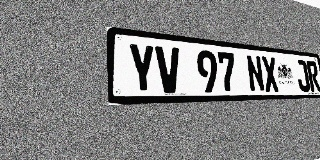7: (216, 52, 238, 92)
9: (196, 50, 220, 93)
J: (295, 59, 311, 92)
N: (245, 55, 265, 92)
R: (306, 61, 320, 91)
V: (155, 45, 182, 93)
X: (261, 56, 280, 92)
Y: (127, 43, 157, 93)
